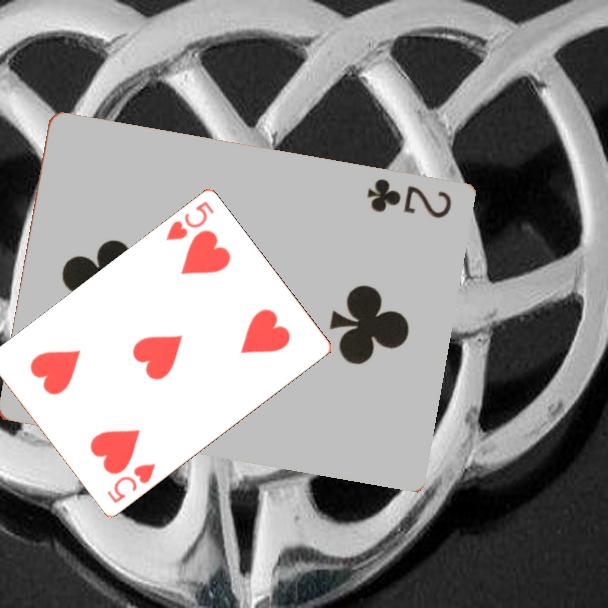c02: (362, 175, 454, 222)
h05: (103, 460, 158, 507), (162, 198, 217, 244)
